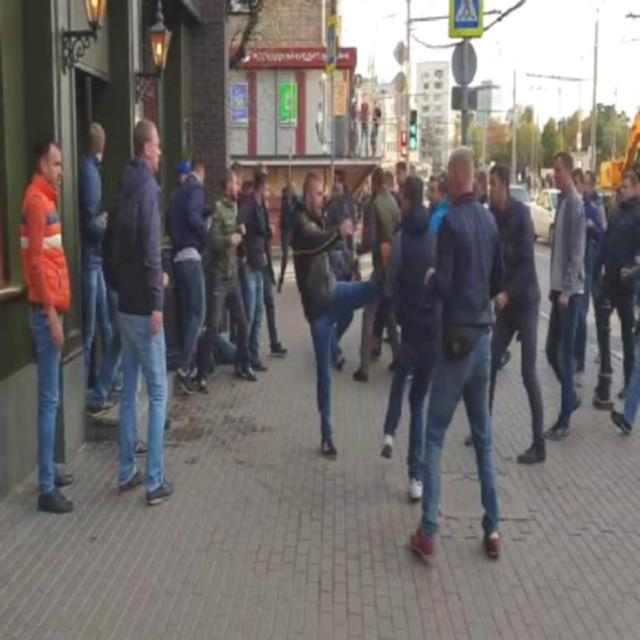fight: (290, 170, 442, 507)
non-fight: (110, 119, 176, 504), (20, 139, 80, 518)
